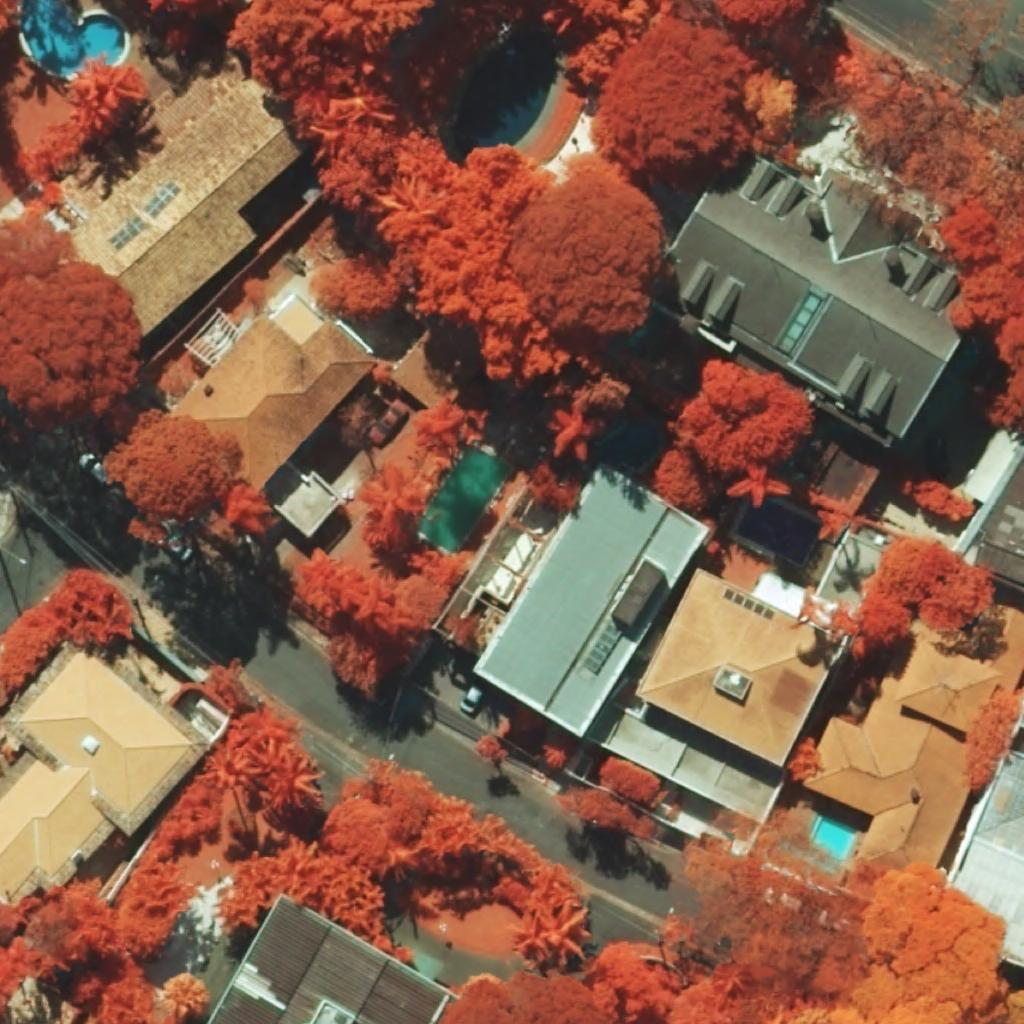pool: (455, 29, 555, 158), (416, 444, 511, 554), (22, 0, 126, 76), (812, 813, 857, 860)
